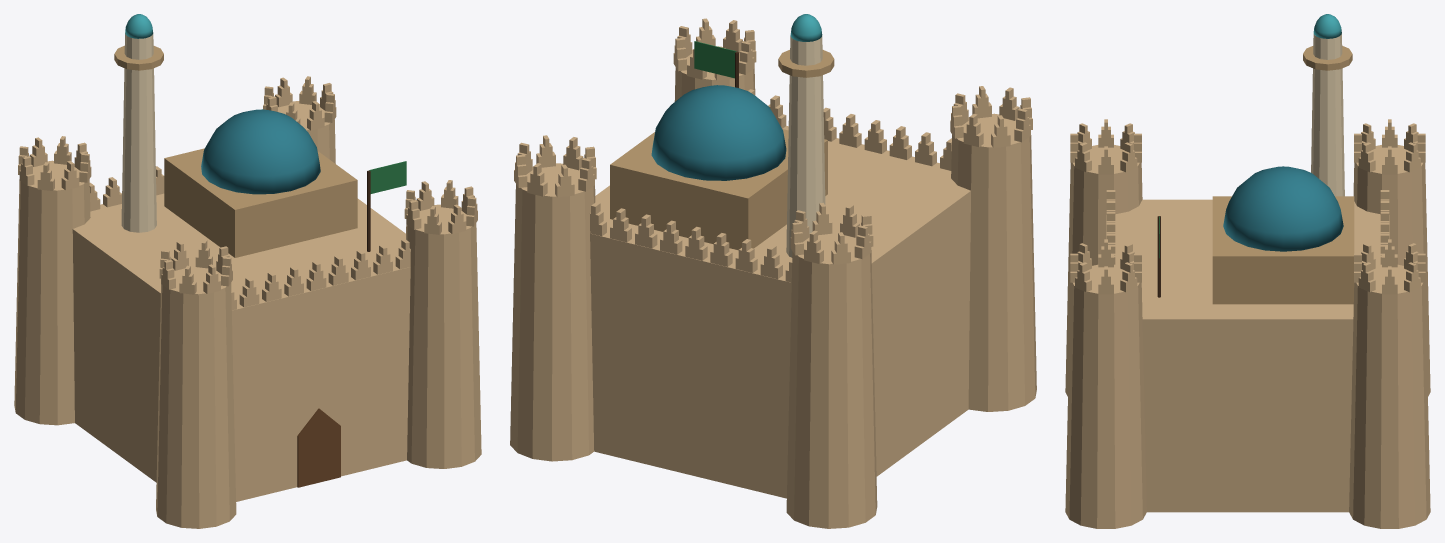
The model's file is keep.glb.
The picture shows the model from 3 angles, left to right: view 1: azimuth 30°, elevation 25°; view 2: azimuth 150°, elevation 25°; view 3: azimuth 270°, elevation 25°; orthographic projection. The views are drawn at different scales.
Visible parts, largest first — view 1: Keep; view 2: Keep; view 3: Keep.
Boxes of the visible parts, bbox=[...] form: Keep: bbox=[14, 14, 481, 528]; Keep: bbox=[510, 14, 1036, 528]; Keep: bbox=[1065, 14, 1430, 528].
Size of the model in its own units: 20.48 by 25.12 by 20.6.
